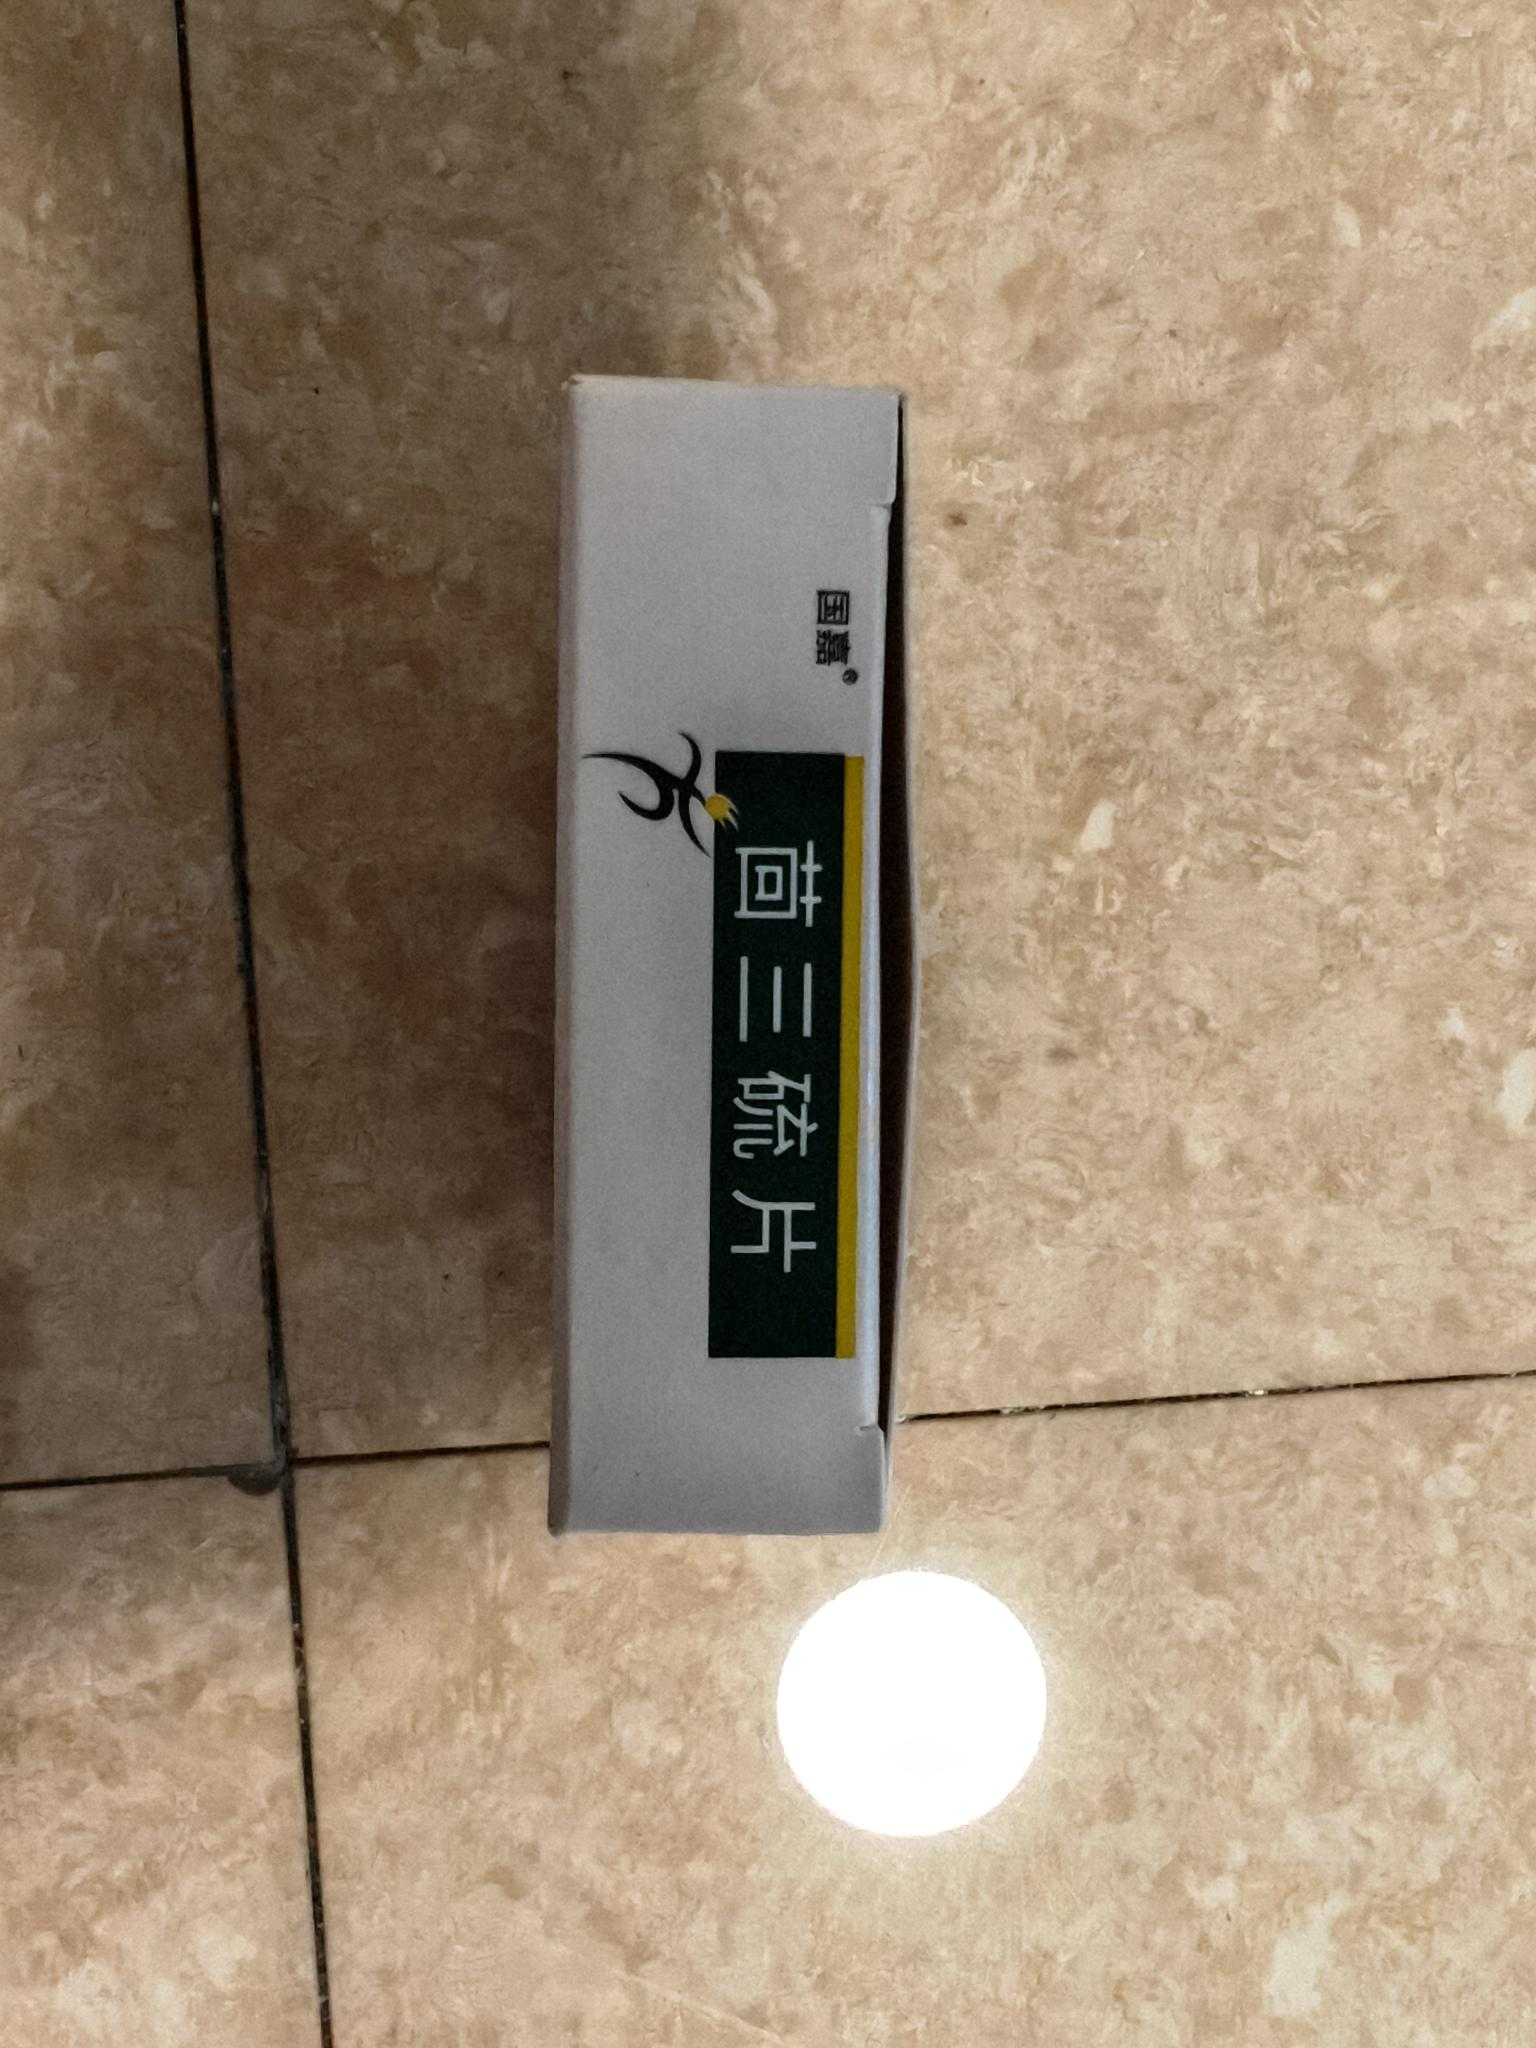Medicine4: (532, 343, 925, 1605)
